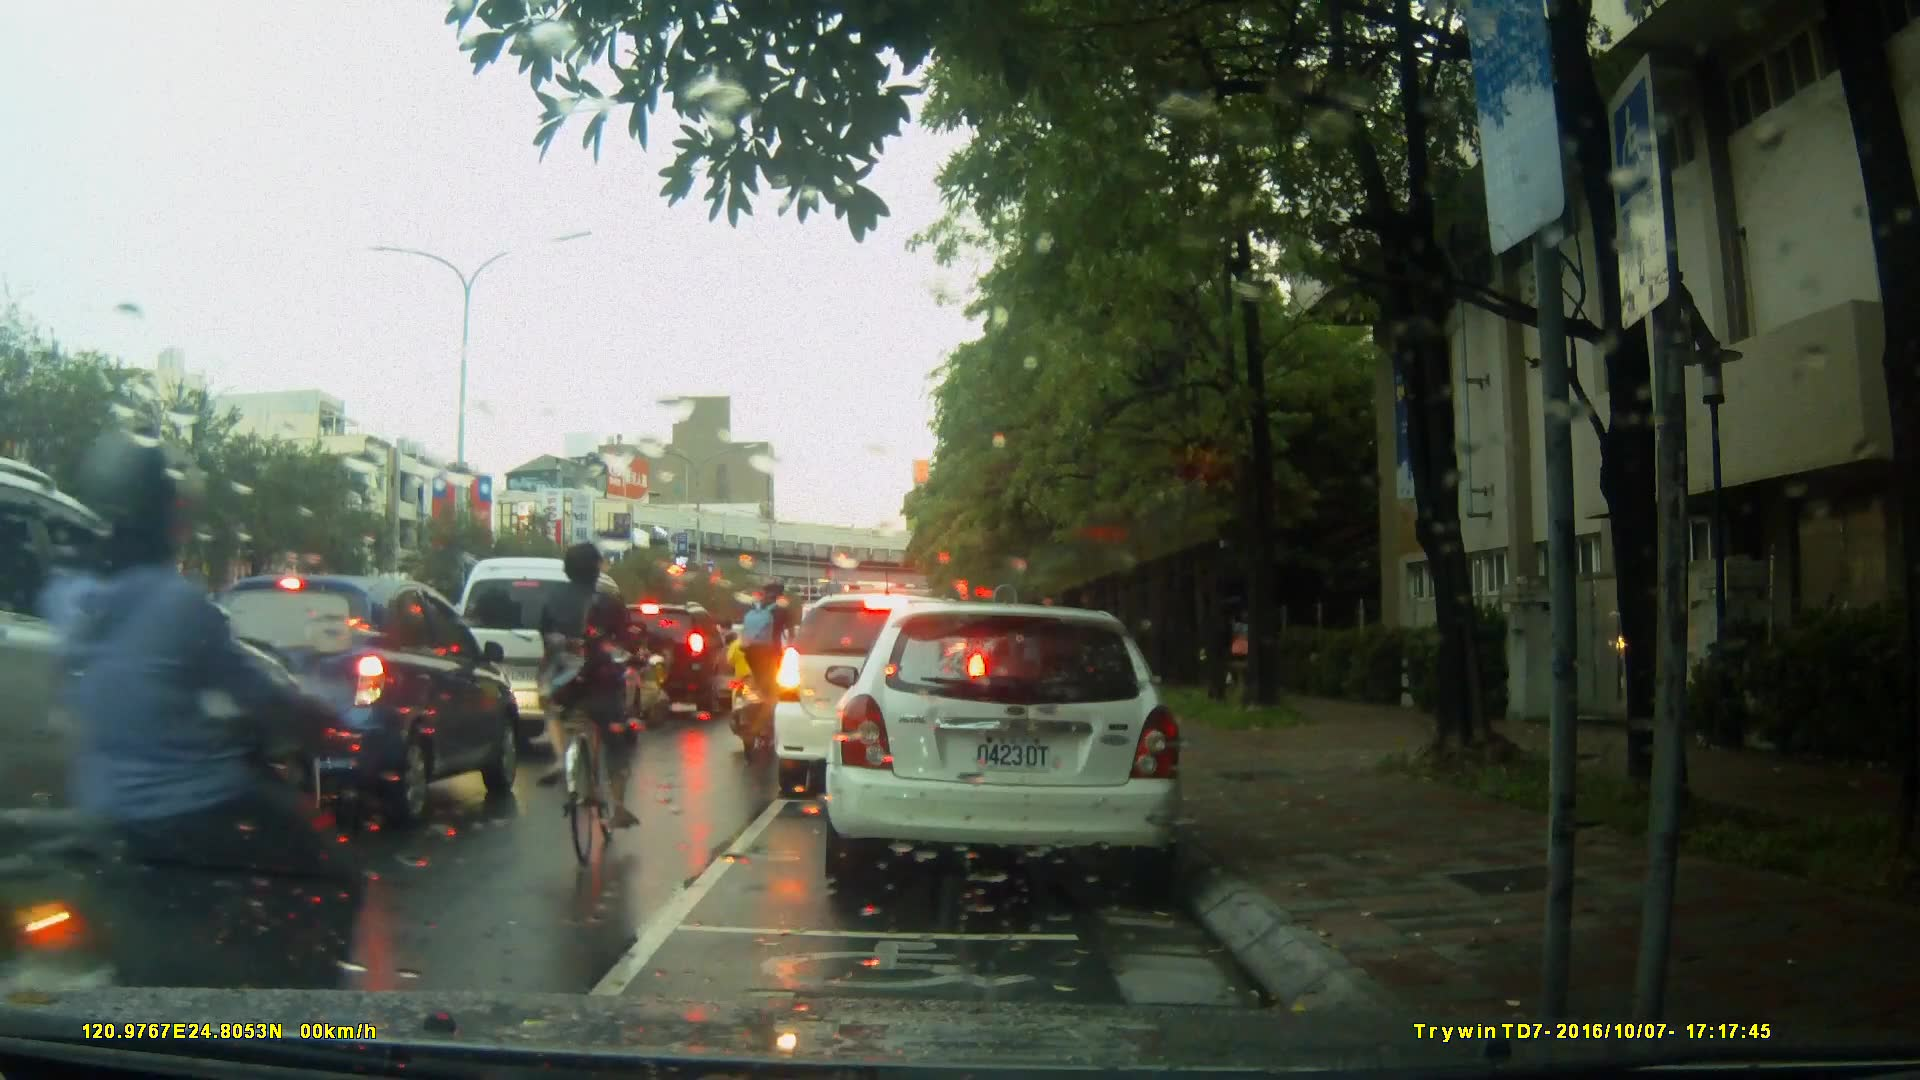rider: (11, 433, 335, 1044), (539, 538, 635, 870), (742, 576, 799, 737), (722, 601, 775, 745)
vehicle: (1, 448, 327, 987), (815, 593, 1204, 909), (179, 573, 530, 830), (770, 592, 991, 799), (447, 557, 648, 762), (600, 599, 743, 719)
